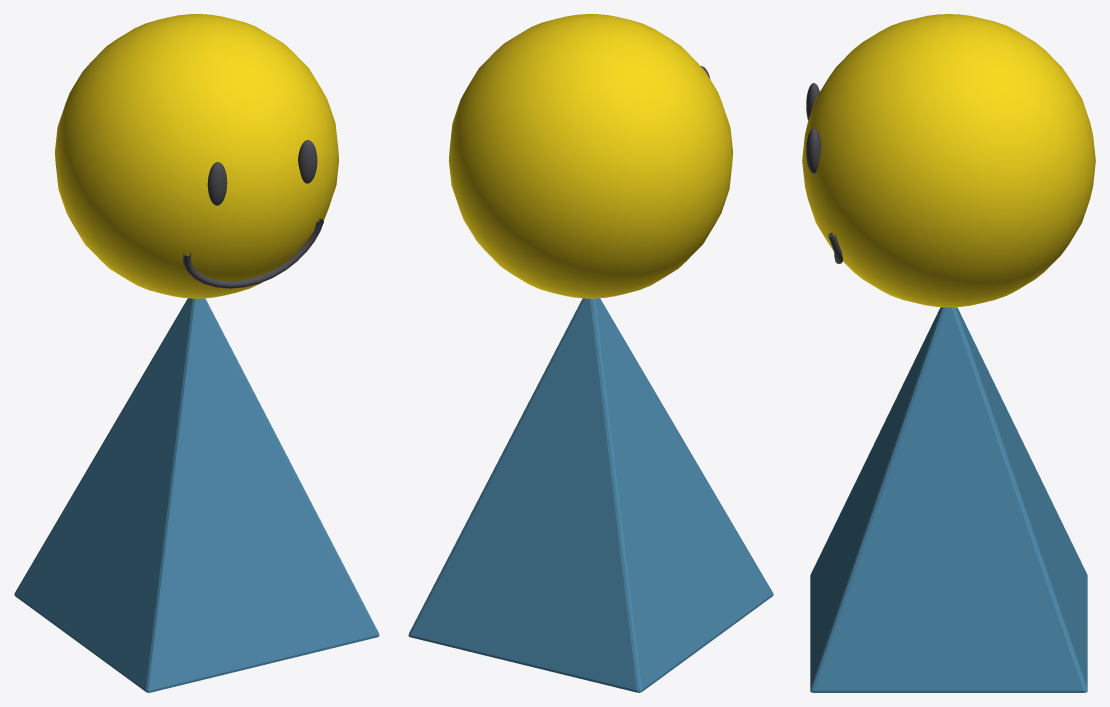
The model's file is char1.glb.
3 views of the same model, side by side, from view 1: azimuth 30°, elevation 25°; view 2: azimuth 150°, elevation 25°; view 3: azimuth 270°, elevation 25° (orthographic). The views are drawn at different scales.
Visible parts, largest first — view 1: Body_Pyramid, Head, Mouth, Eye, Eye.001; view 2: Body_Pyramid, Head; view 3: Body_Pyramid, Head, Eye.001.
Part boxes in pixels (bbox=[...]): Body_Pyramid: bbox=[14, 298, 379, 692]; Head: bbox=[54, 14, 338, 298]; Mouth: bbox=[183, 218, 323, 288]; Eye: bbox=[207, 162, 227, 205]; Eye.001: bbox=[298, 140, 317, 183]; Body_Pyramid: bbox=[408, 298, 773, 692]; Head: bbox=[449, 14, 733, 298]; Body_Pyramid: bbox=[810, 307, 1087, 692]; Head: bbox=[802, 14, 1095, 307]; Eye.001: bbox=[806, 128, 820, 173].
Bounding box in the file's own units: 2.3 × 5.25 × 2.3.
